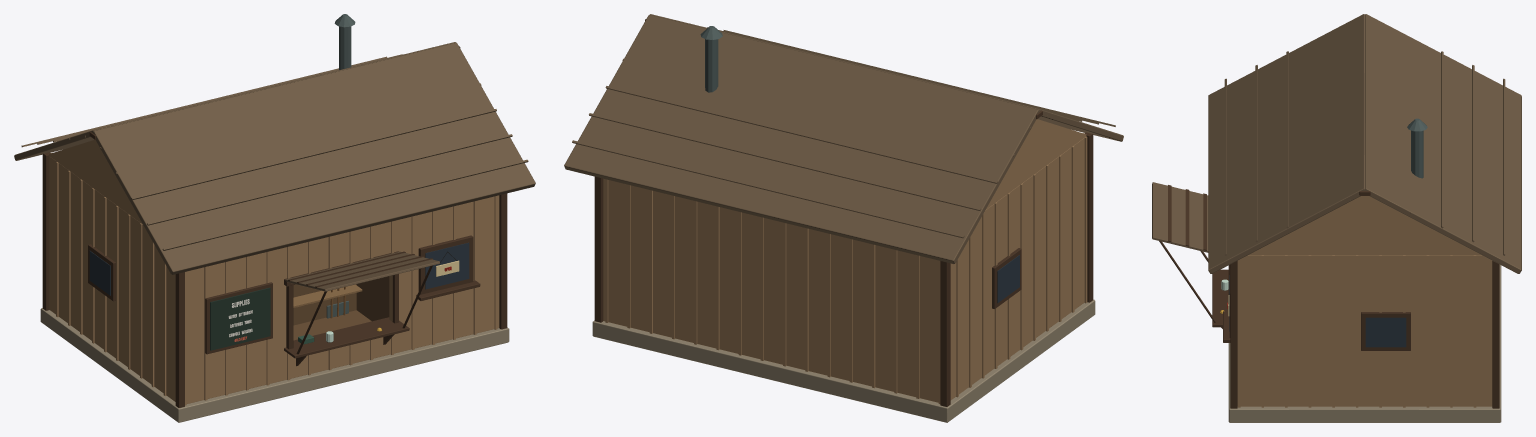
Rendered from CompanyStore.glb.
3 renders of one model, left to right at view 1: azimuth 30°, elevation 25°; view 2: azimuth 150°, elevation 25°; view 3: azimuth 270°, elevation 25°, orthographic. The views are drawn at different scales.
Visible parts, largest first — view 1: CompanyStore.001; view 2: CompanyStore.001; view 3: CompanyStore.001.
Boxes of the visible parts, box(x1,y1,x2,y2) form: CompanyStore.001: box(14, 14, 535, 422); CompanyStore.001: box(564, 14, 1123, 422); CompanyStore.001: box(1152, 14, 1521, 422).
Bounding box in the file's own units: 7.95 × 5.7 × 7.05.
